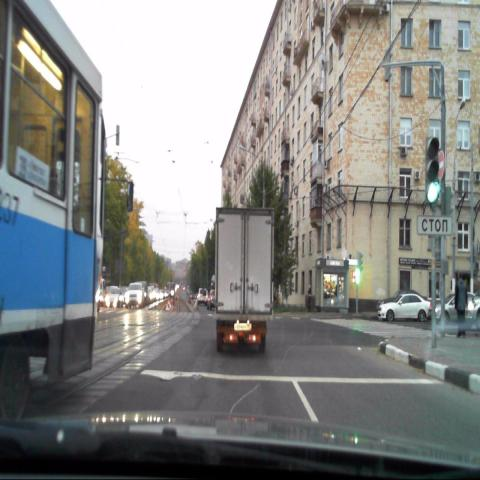3_1: (436, 150, 444, 181)
